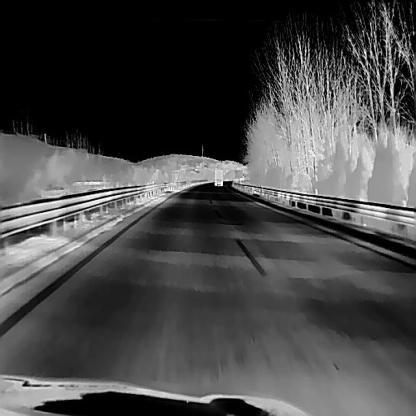car: (214, 166, 223, 185)
